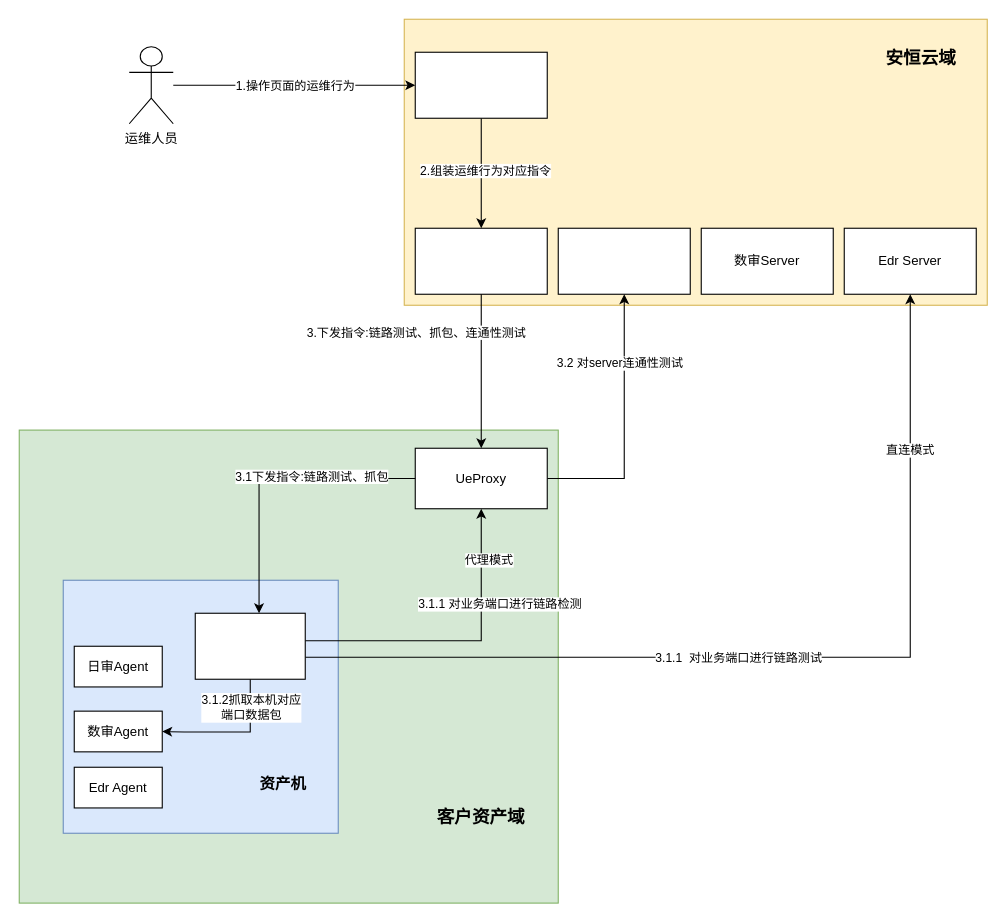
Image size: 1007x923. Some labels were removed from this diagram. Each missing label, with the centre of its shape:
UeAgent: [249,645]
UEManager: [480,84]
UEServer: [480,260]
日审Server: [623,260]
